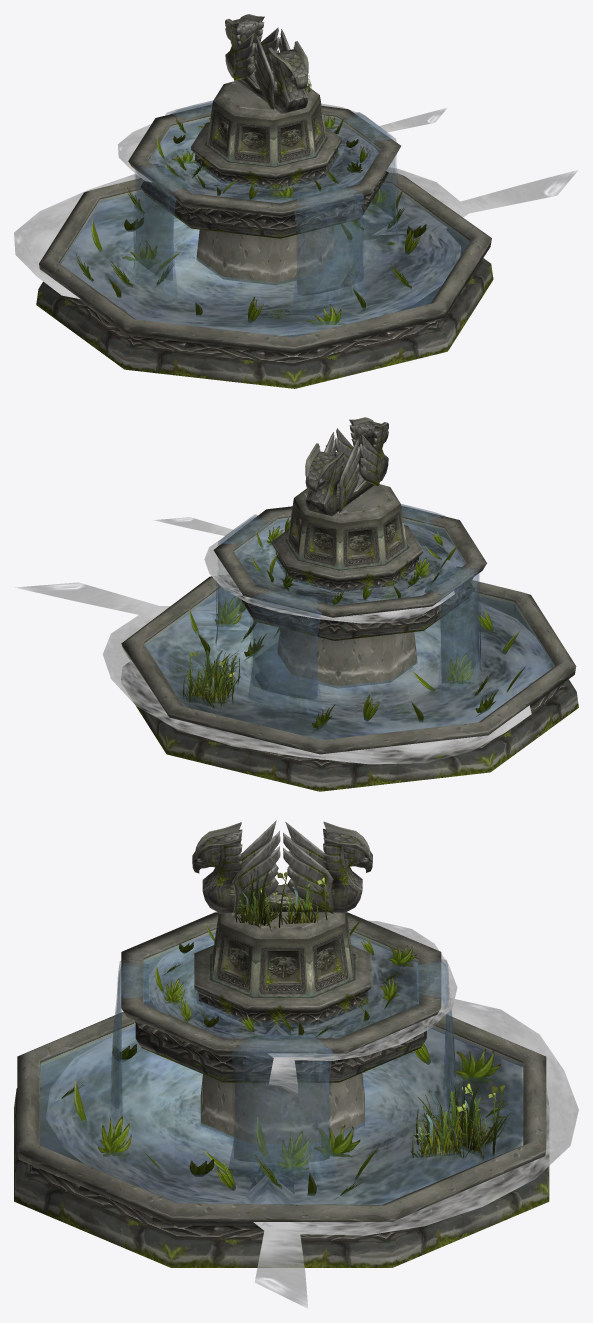
3 renders of one model, top to bottom at view 1: azimuth 30°, elevation 25°; view 2: azimuth 150°, elevation 25°; view 3: azimuth 270°, elevation 25°, orthographic. The views are drawn at different scales.
Bounding box in the file's own units: 6.26 × 3.03 × 4.72.
9 materials, 9 textured.
